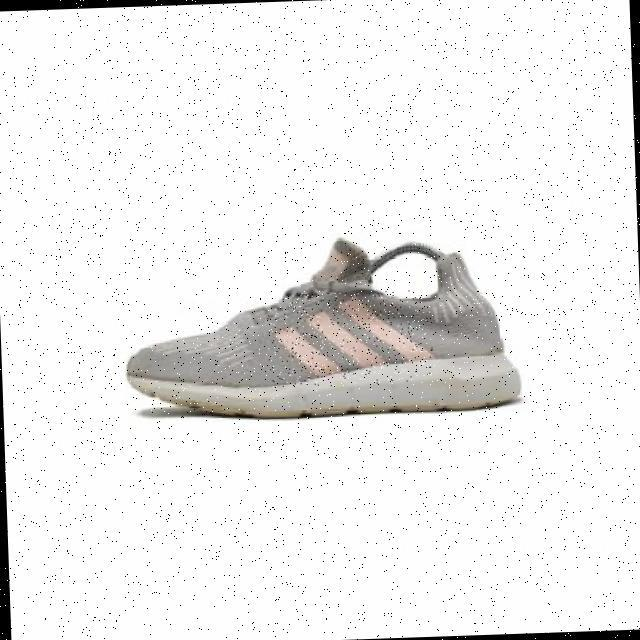Adidas: (266, 289, 433, 389)
